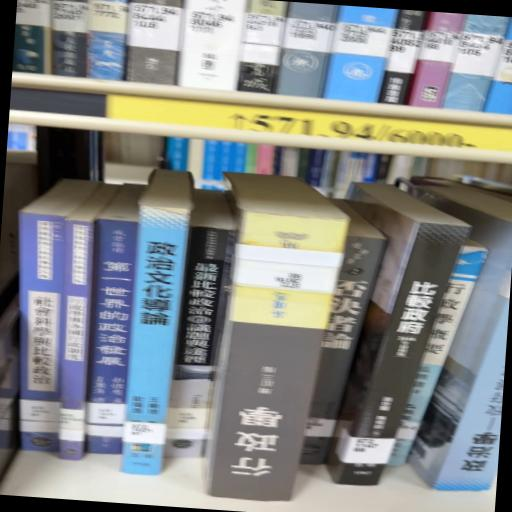reverse: (207, 174, 349, 502)
